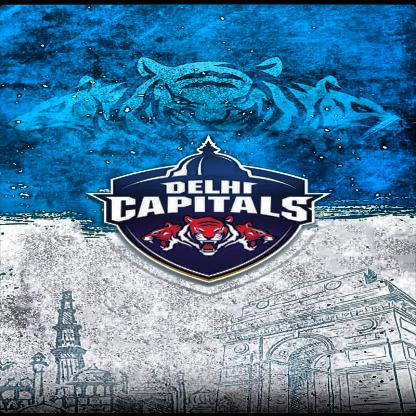Delhi Capitals: (91, 135, 330, 285)
